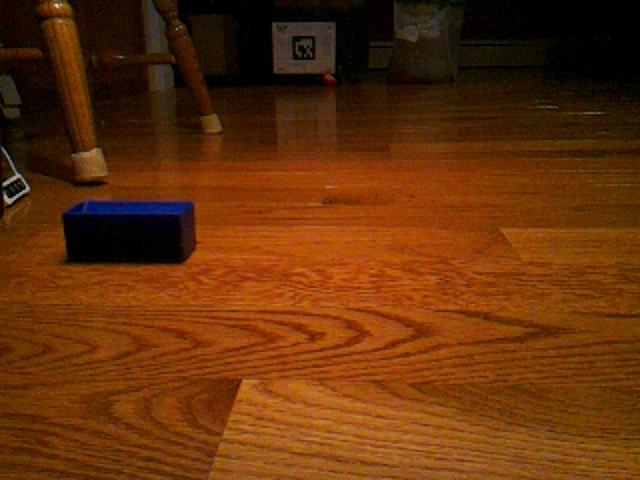blue: (61, 197, 198, 265)
